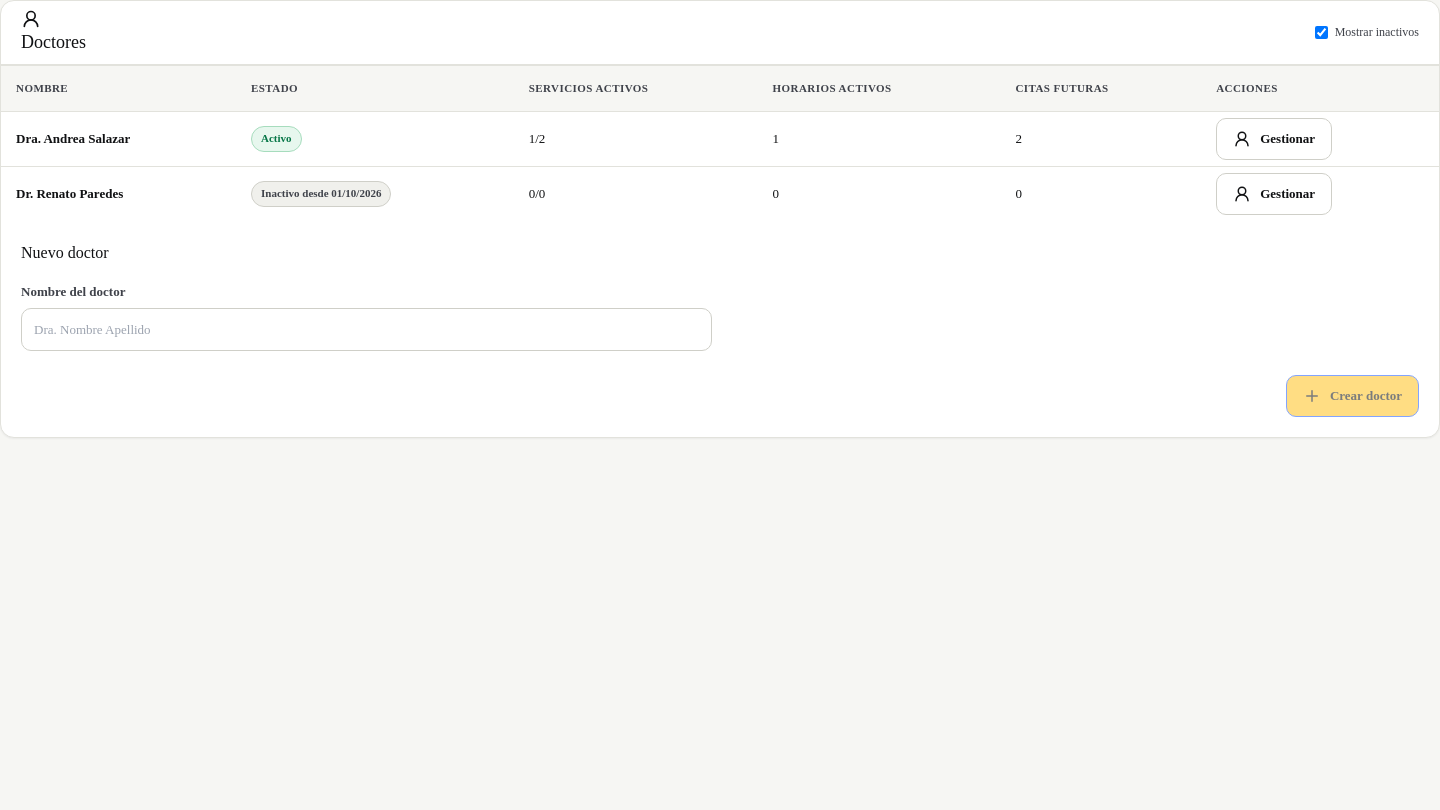
PractitionersPanel · management › lists the services and schedules a doctor has, active or not
The width and height of the screenshot is (1440, 810).
Click the button "Gestionar" in the row of "Dra. Andrea Salazar": (1274, 138) [1216,118,1332,160]
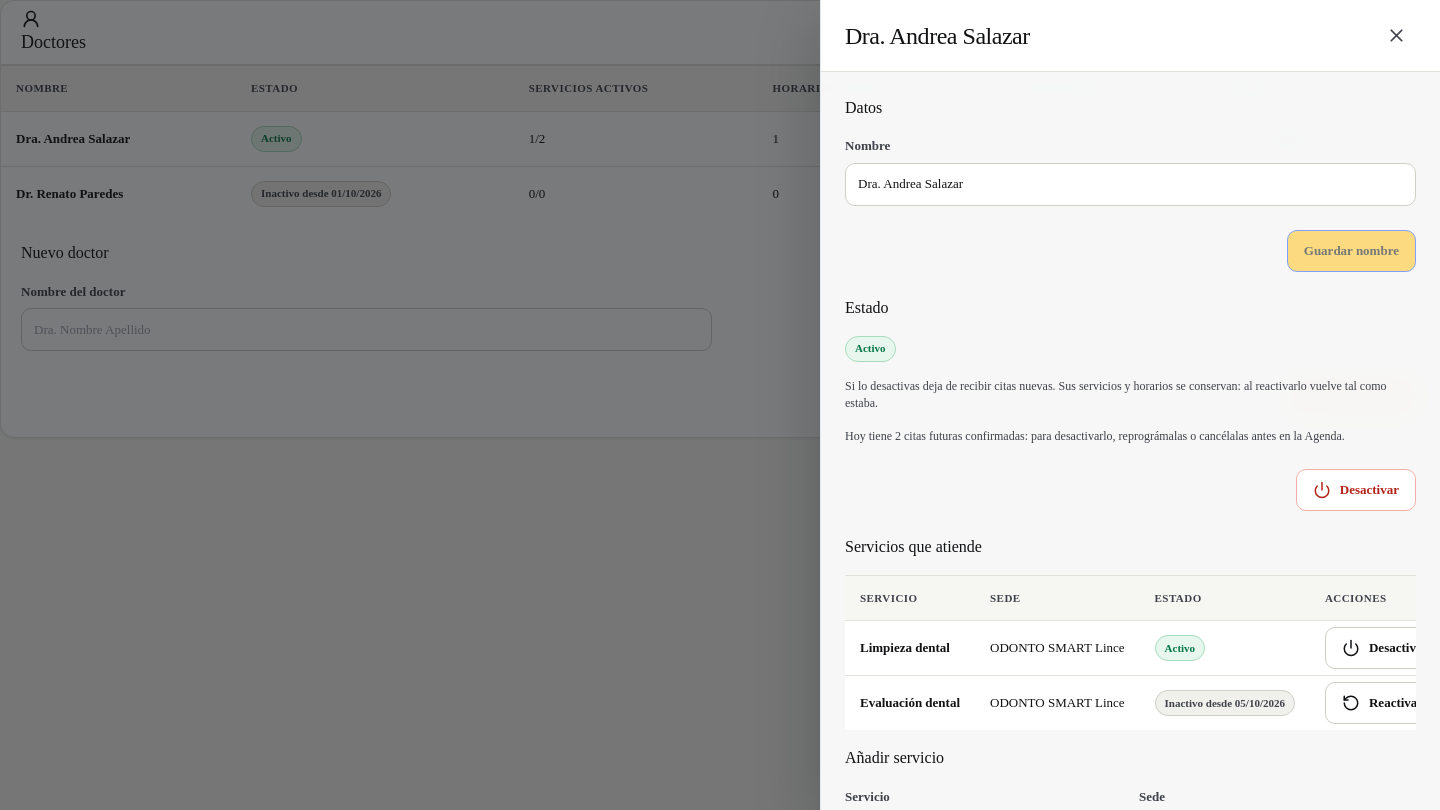
Expected: the text "Limpieza dental" is shown, [860,640,950,655]
Expected: the text "Evaluación dental" is shown, [860,695,960,710]
Expected: the text "Inactivo desde 05/10/2026" is shown, [1155,690,1295,716]
